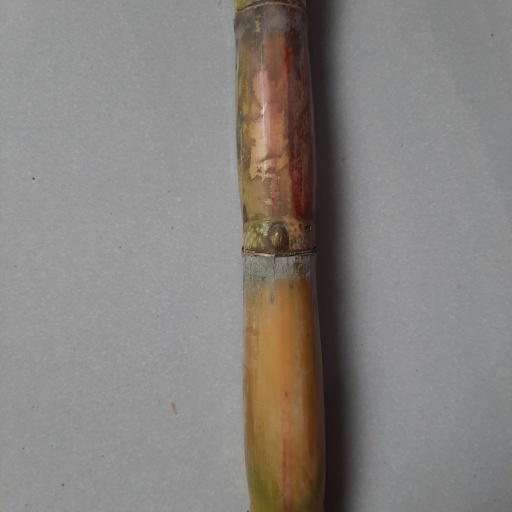Bud: (268, 221, 289, 256)
